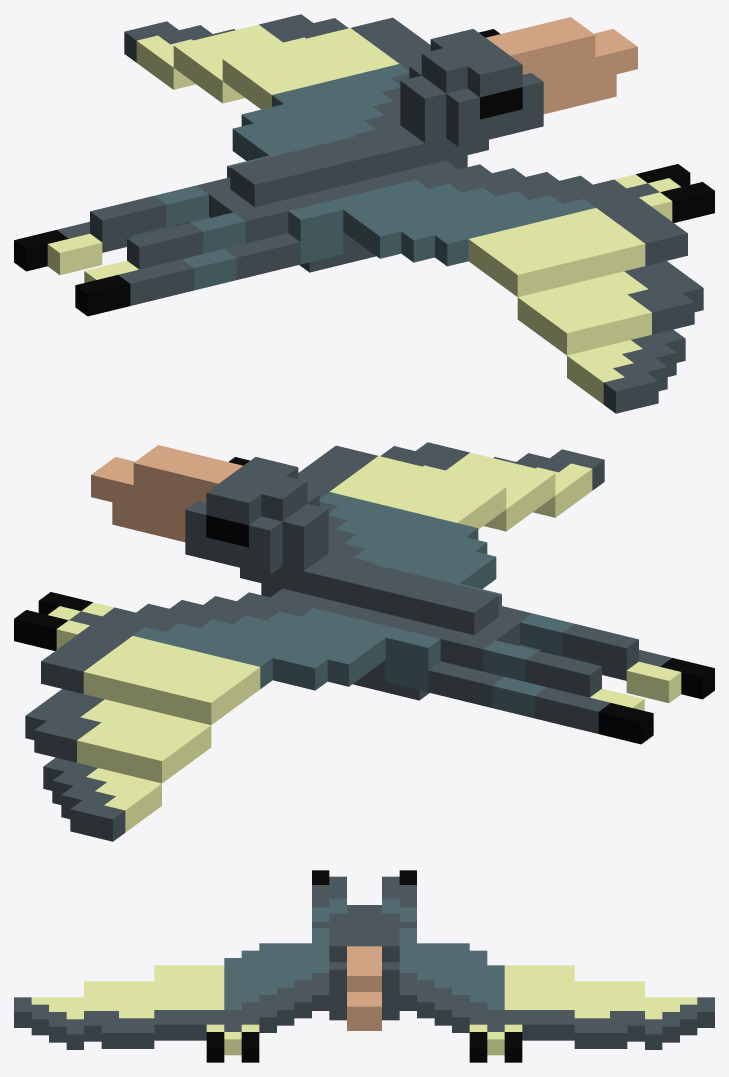
Rendered from lvl3-15.obj.
The picture shows the model from 3 angles, top to bottom: view 1: azimuth 30°, elevation 25°; view 2: azimuth 150°, elevation 25°; view 3: azimuth 270°, elevation 25°; orthographic projection. The views are drawn at different scales.
Size of the model in its own units: 2.7 by 0.7 by 4.
Materials: 1 (1 with a texture image).
